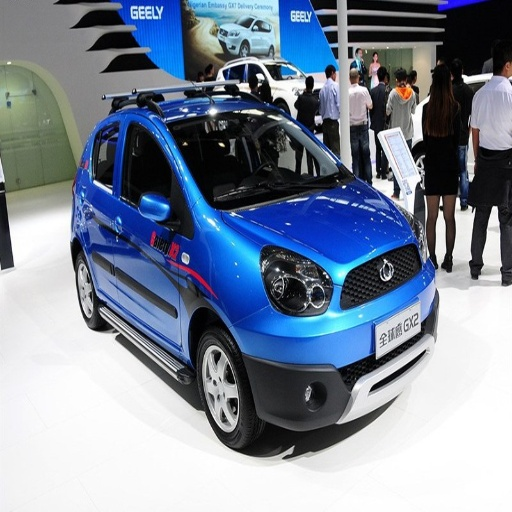front_bumper: (235, 249, 439, 432)
front_right_door: (116, 114, 181, 350)
front_right_light: (260, 249, 330, 316)
